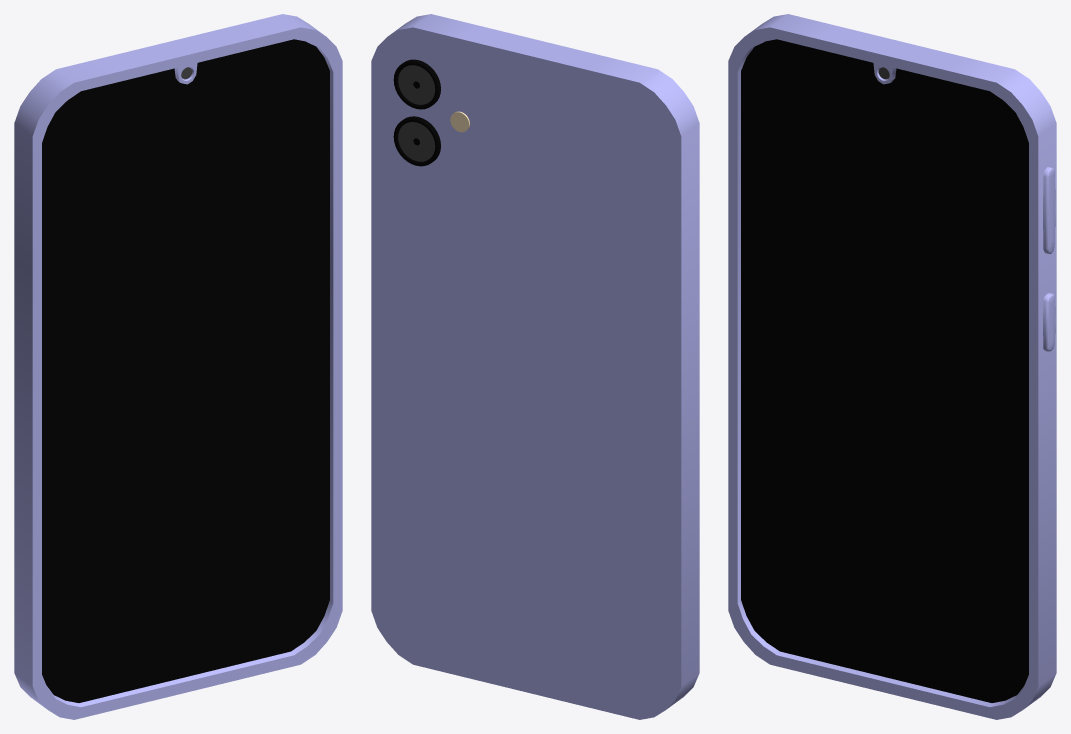
Rendered from Reject2.fbx.
3 views of the same model, side by side, from view 1: azimuth 30°, elevation 25°; view 2: azimuth 150°, elevation 25°; view 3: azimuth 330°, elevation 25° (orthographic).
Parts seen in each view (by area): view 1: reject.001; view 2: reject.001; view 3: reject.001.
Part boxes in pixels (x1=…): reject.001: x1=14, y1=14, x2=342, y2=719; reject.001: x1=371, y1=14, x2=699, y2=719; reject.001: x1=728, y1=14, x2=1056, y2=719.
Size of the model in its own units: 1.13 by 2.18 by 0.1292.
